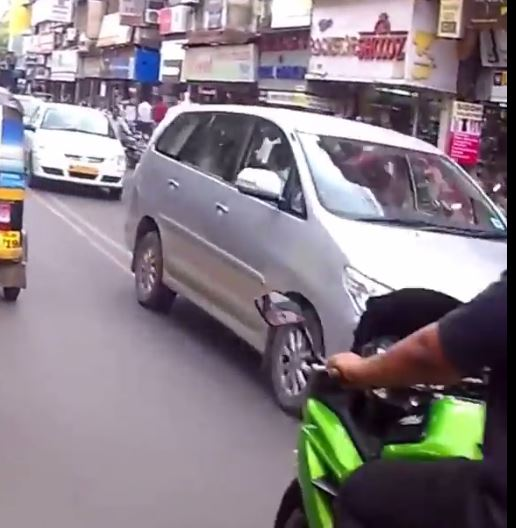autorickshaw: (1, 83, 33, 325)
car: (118, 92, 510, 408), (23, 98, 129, 198)
